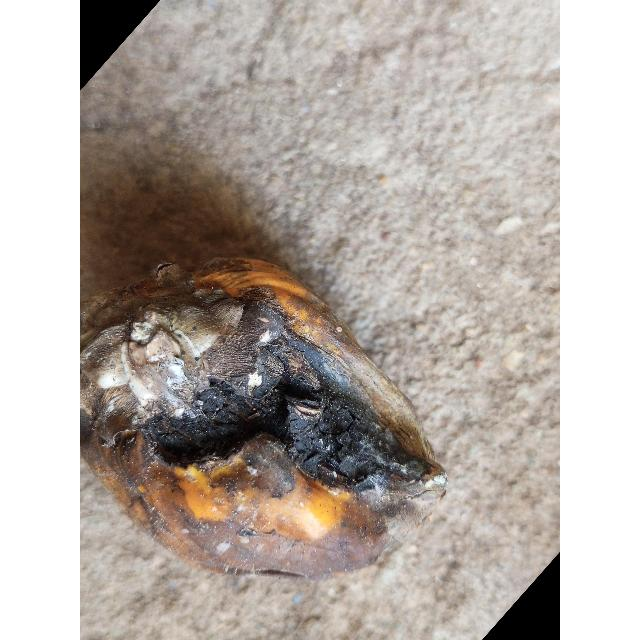damaged: (80, 244, 448, 581)
